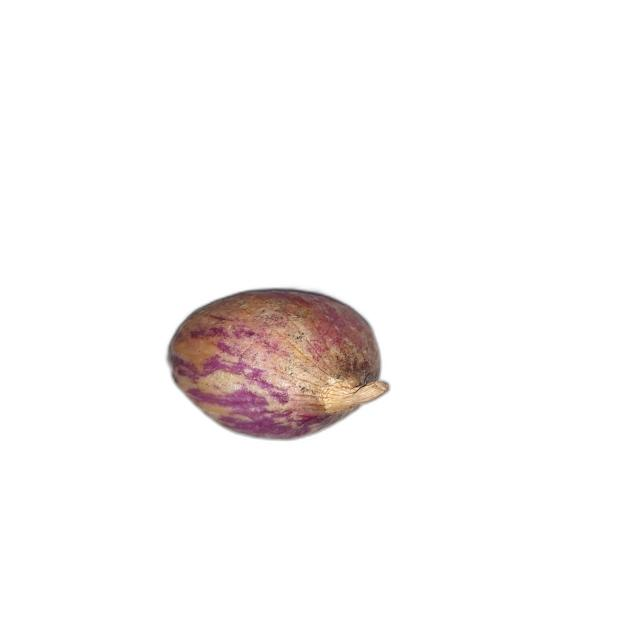onion: (164, 286, 393, 443)
